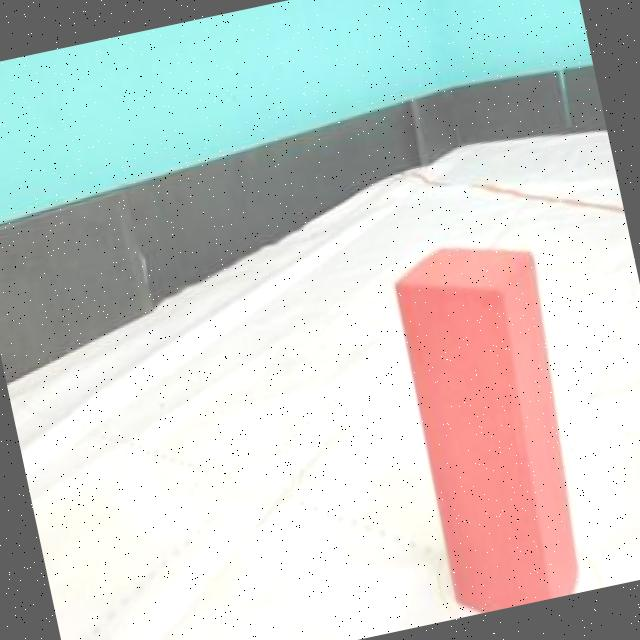redbox: (382, 223, 604, 618)
